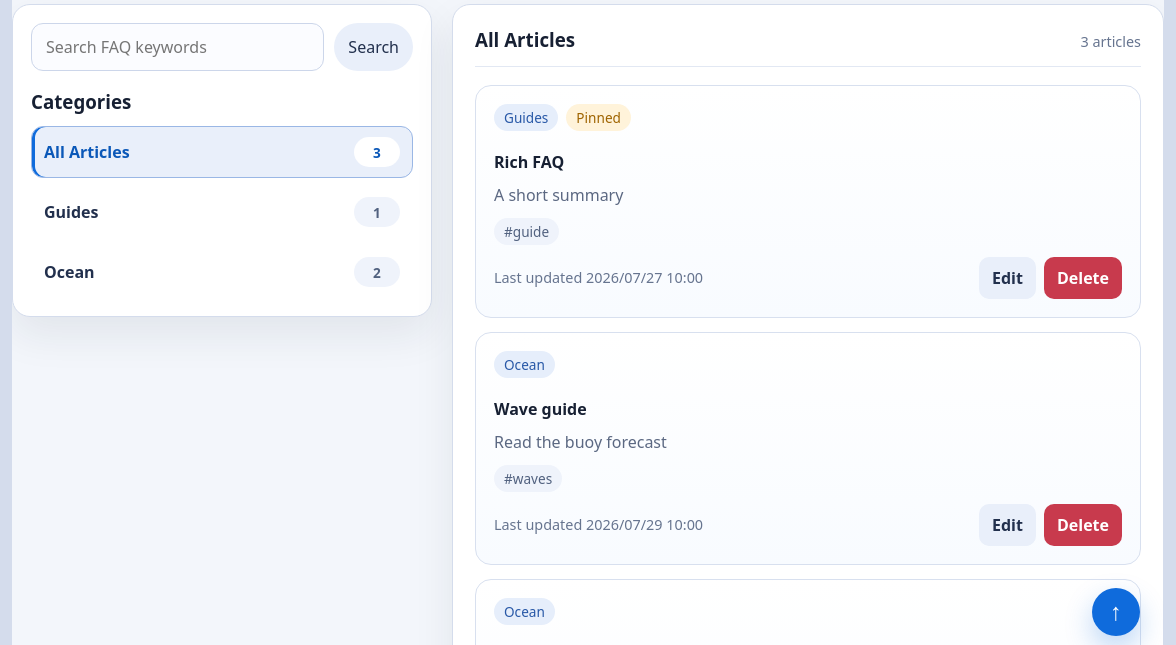
Test case: FaqPage category browsing › opens edit from a card without opening article detail
Expected: the button "All Articles 3" is shown, [31, 126, 413, 178]
Step 1. Click the button with aria-label "Edit Rich FAQ" → (1007, 278), box [979, 257, 1036, 299]
(page scrolled)
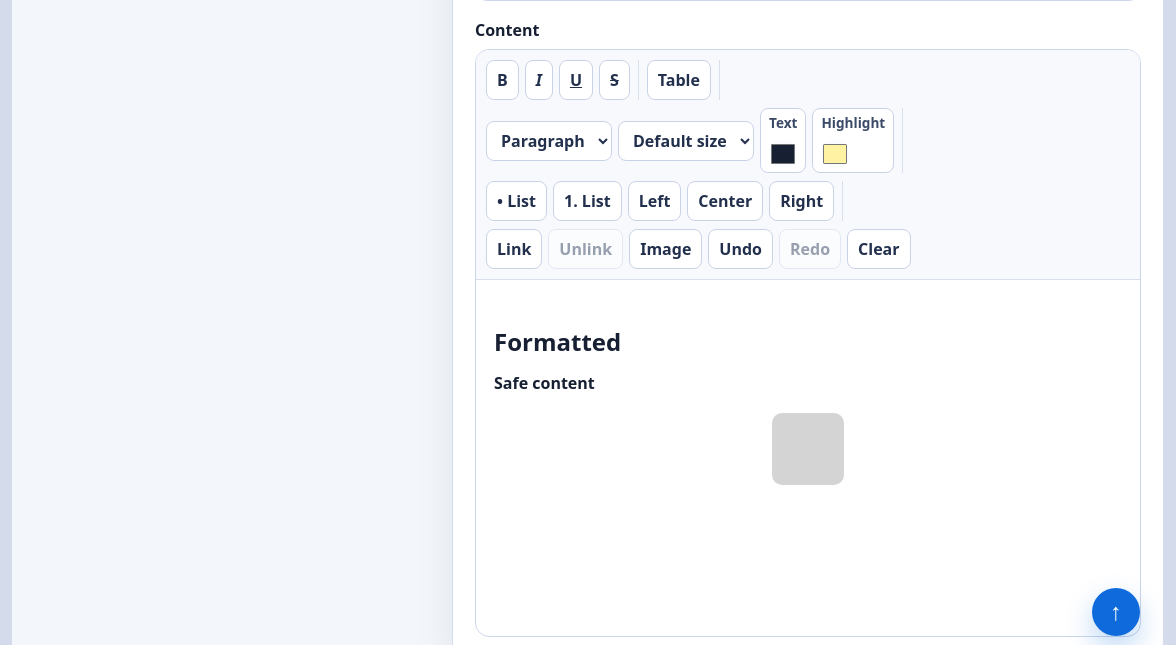
Expected: the field named "FAQ content" shows "Formatted", [494, 325, 844, 485]
